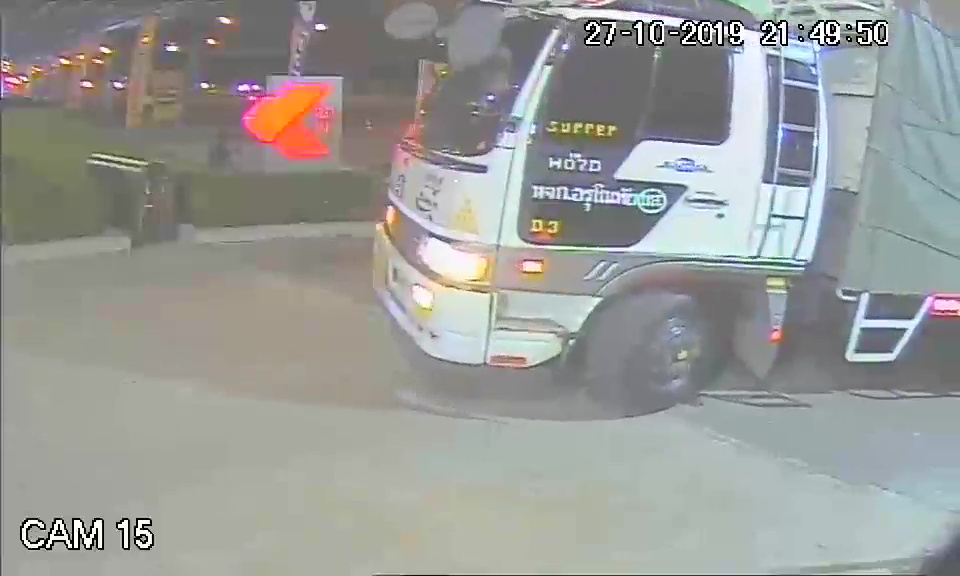truck: (370, 2, 828, 414)
